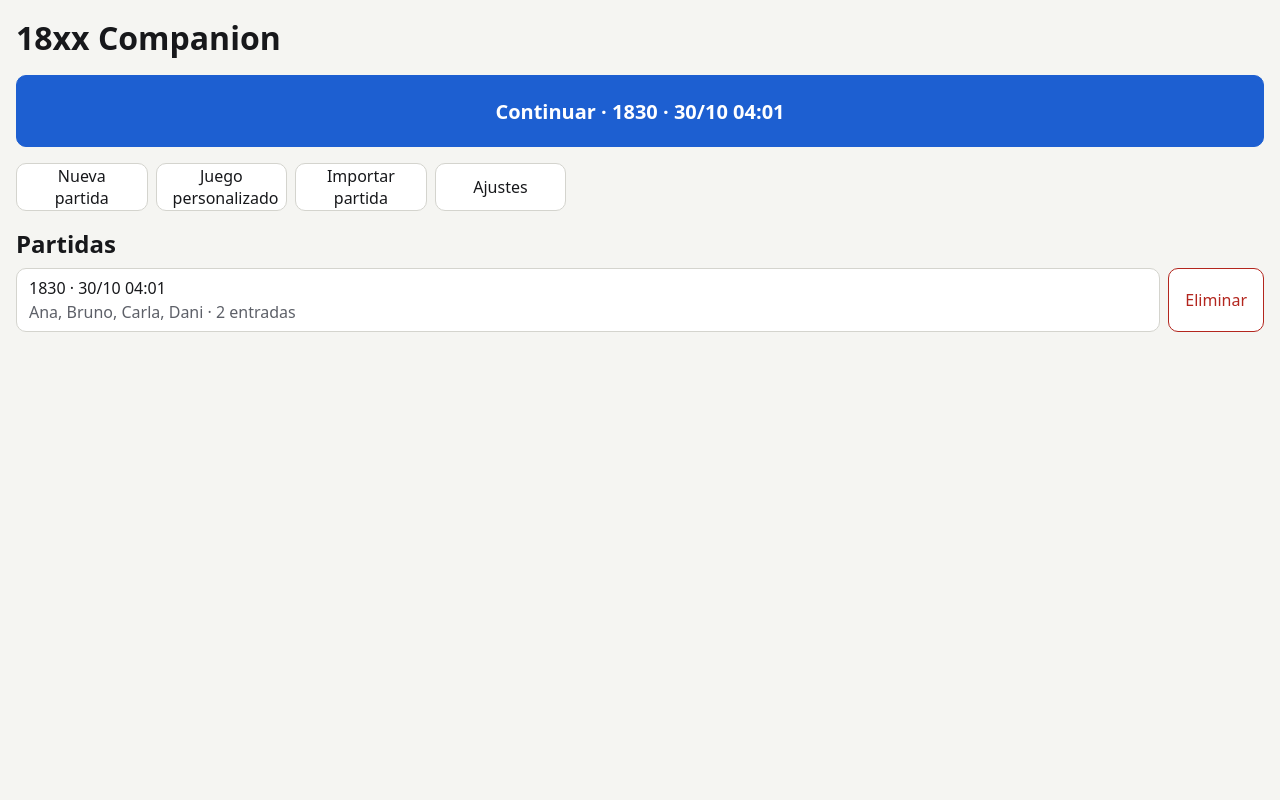
Scenario: the results table (US1, FR-007–FR-009, FR-013) › the rank-1 row carries the 🏆 Ganador text badge; the rest share =2
The image size is (1280, 800).
Click the button "Continuar · 1830 · 30/10 04:01" at point(640, 111), box [16,75,1264,147]
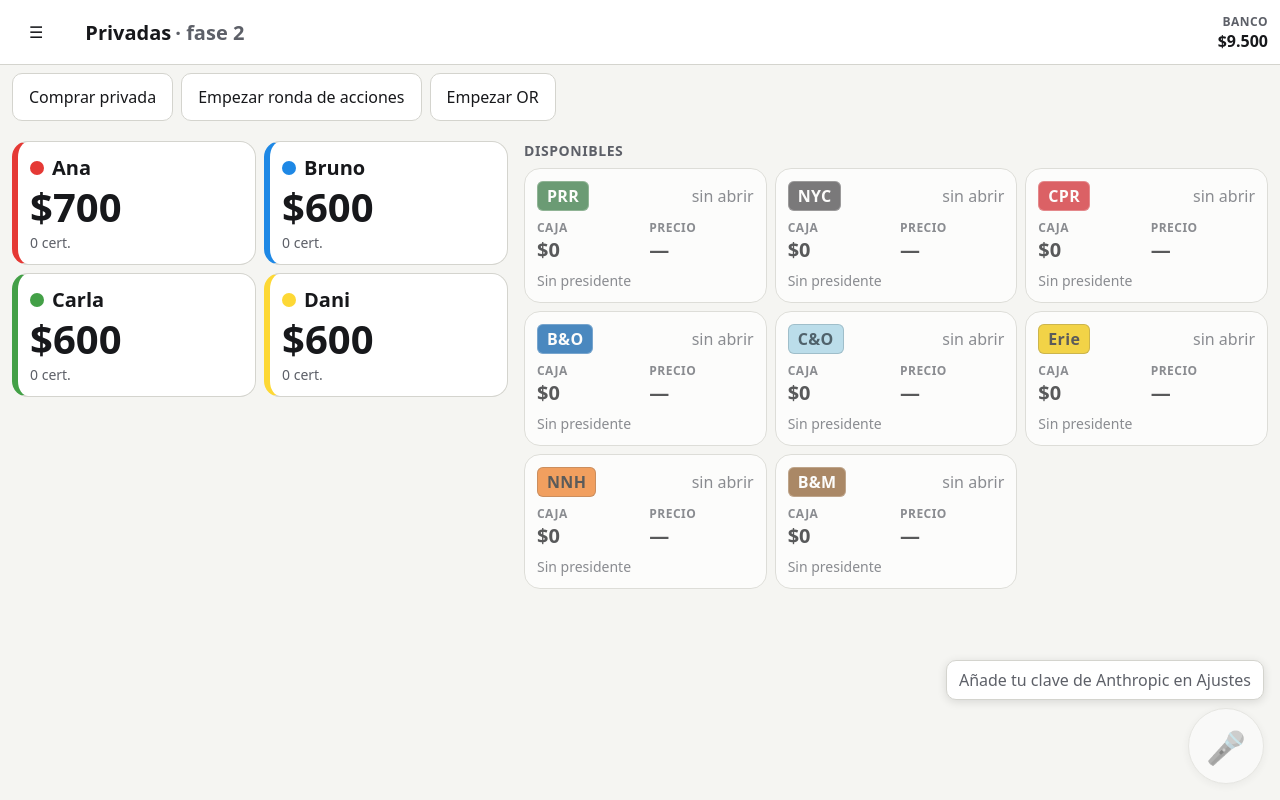
expect the button named "Menú" is shown: met
Click the button named "Menú" at point(36, 32), box [12,8,60,56]
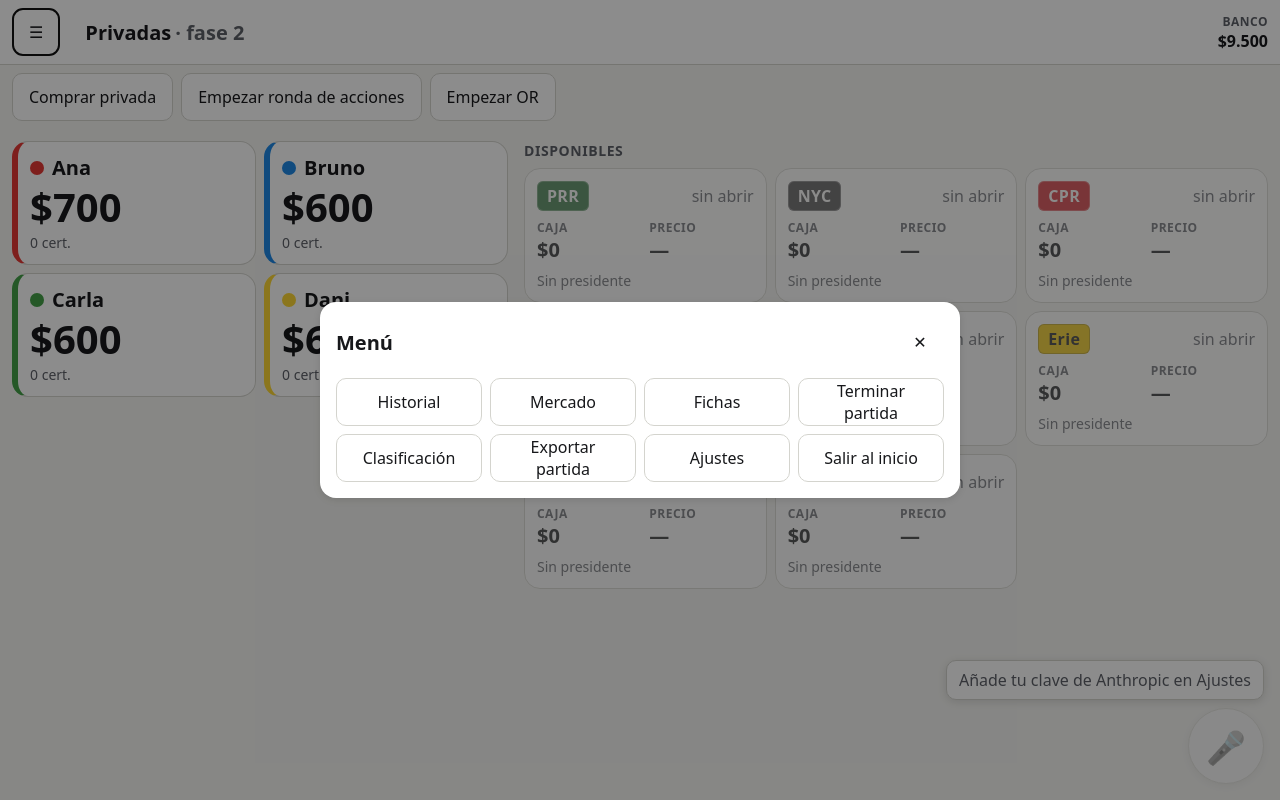
Click the button "Terminar partida" at point(871, 402), box [798,378,944,426]
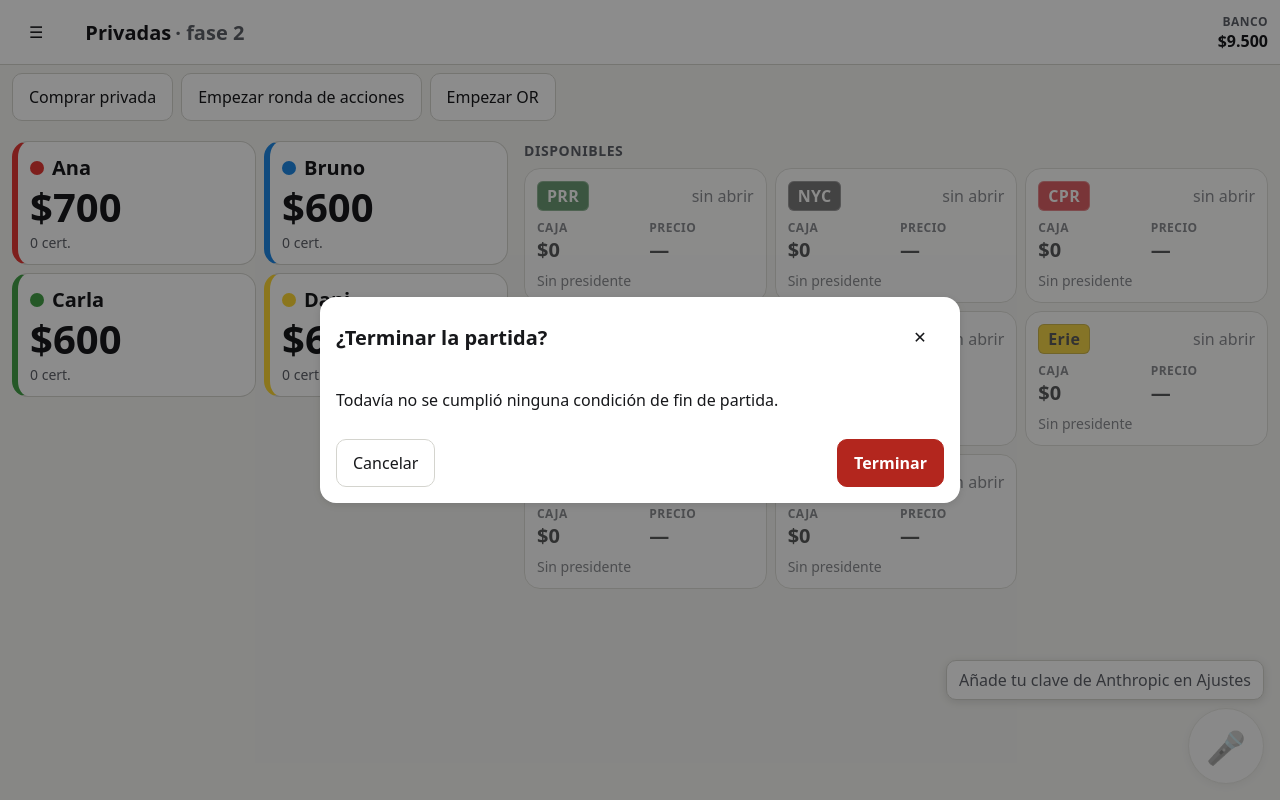
Click the button "Terminar" at point(891, 463), box [837,439,944,487]
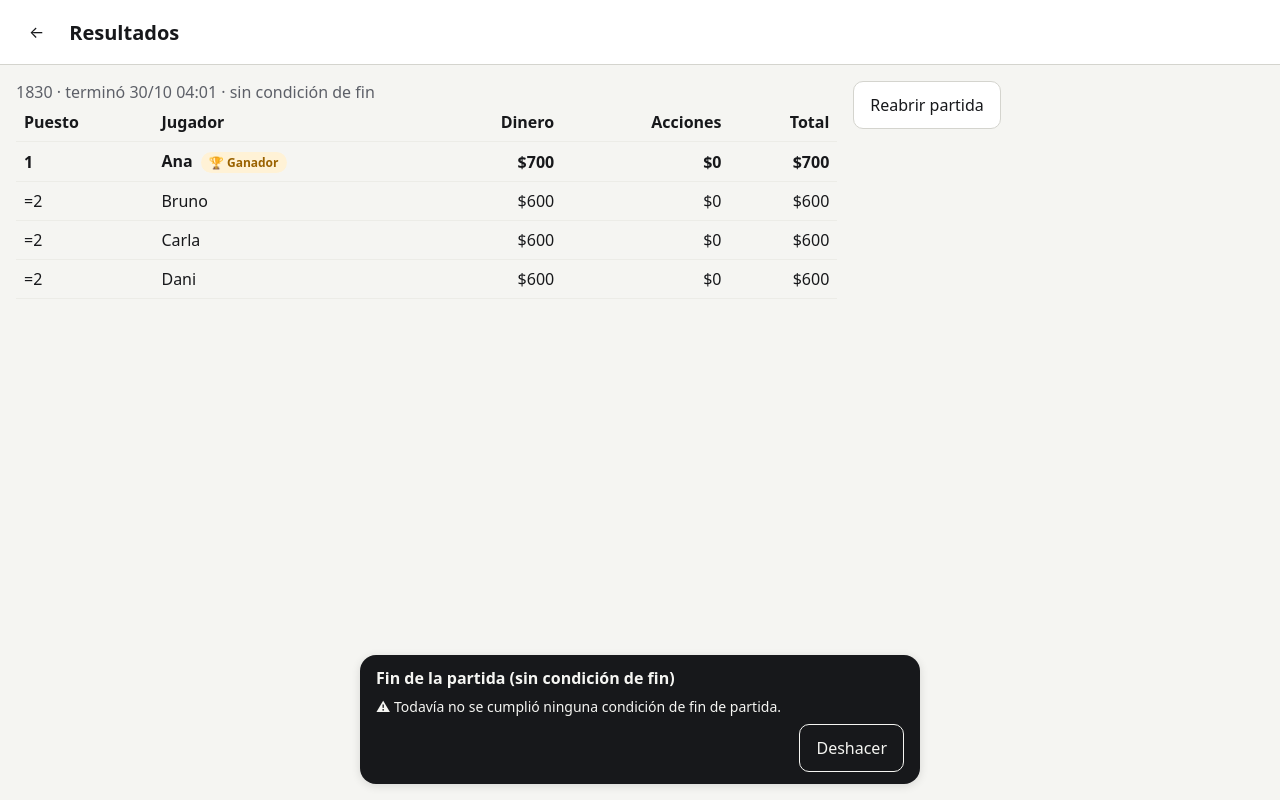
expect the row "1 Ana 🏆 Ganador $700 $0 $700" is shown: met, box [16,142,837,182]
expect the text "🏆 Ganador" is shown: met, box [201,152,286,173]
